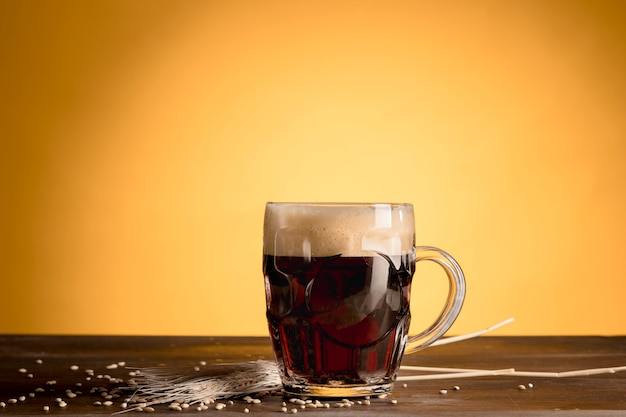alcohol: (259, 199, 467, 399)
